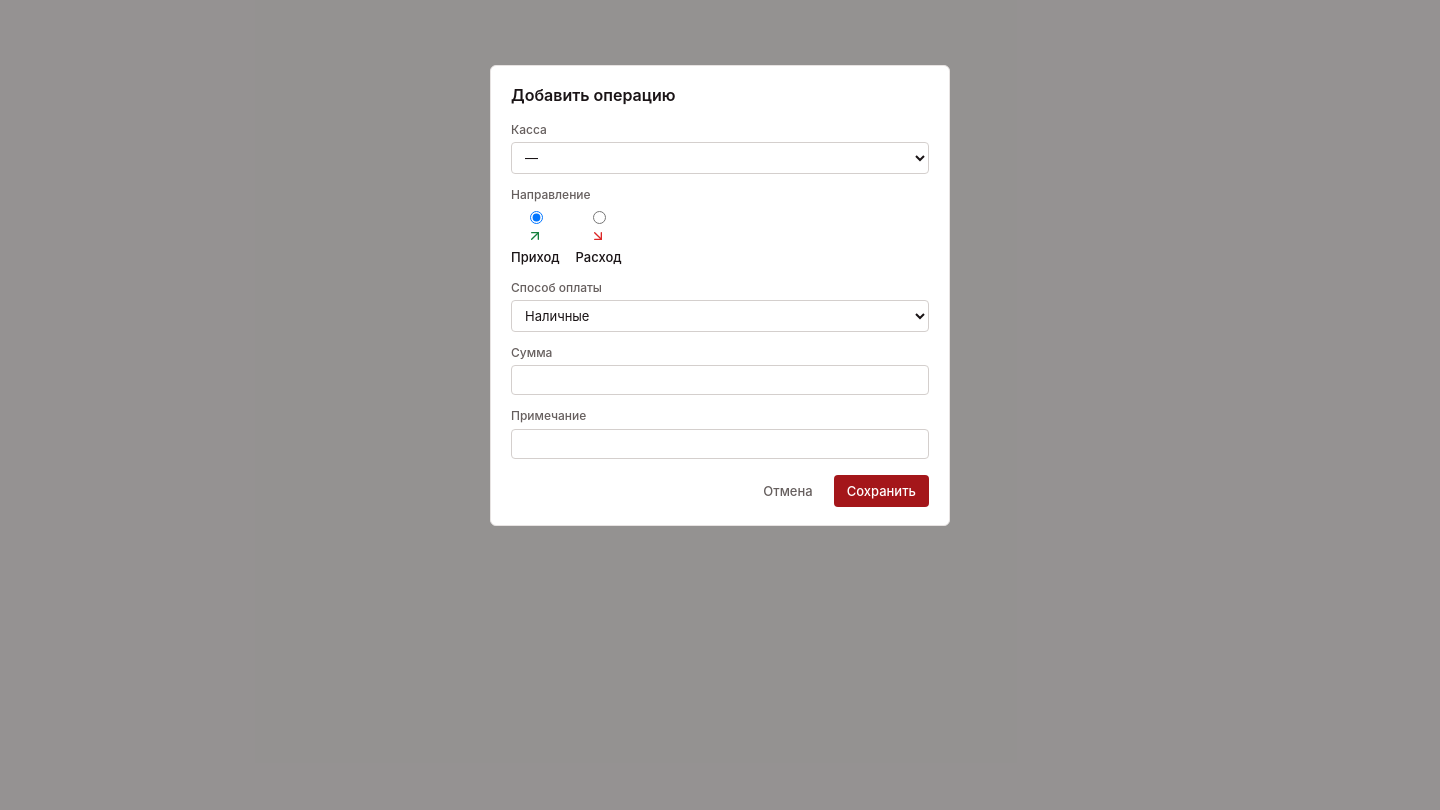
it: CashOperationModal › требует выбрать кассу
This screenshot has width=1440, height=810.
In the number field labelled "Сумма": (720, 380) [511, 365, 929, 395], type "100"
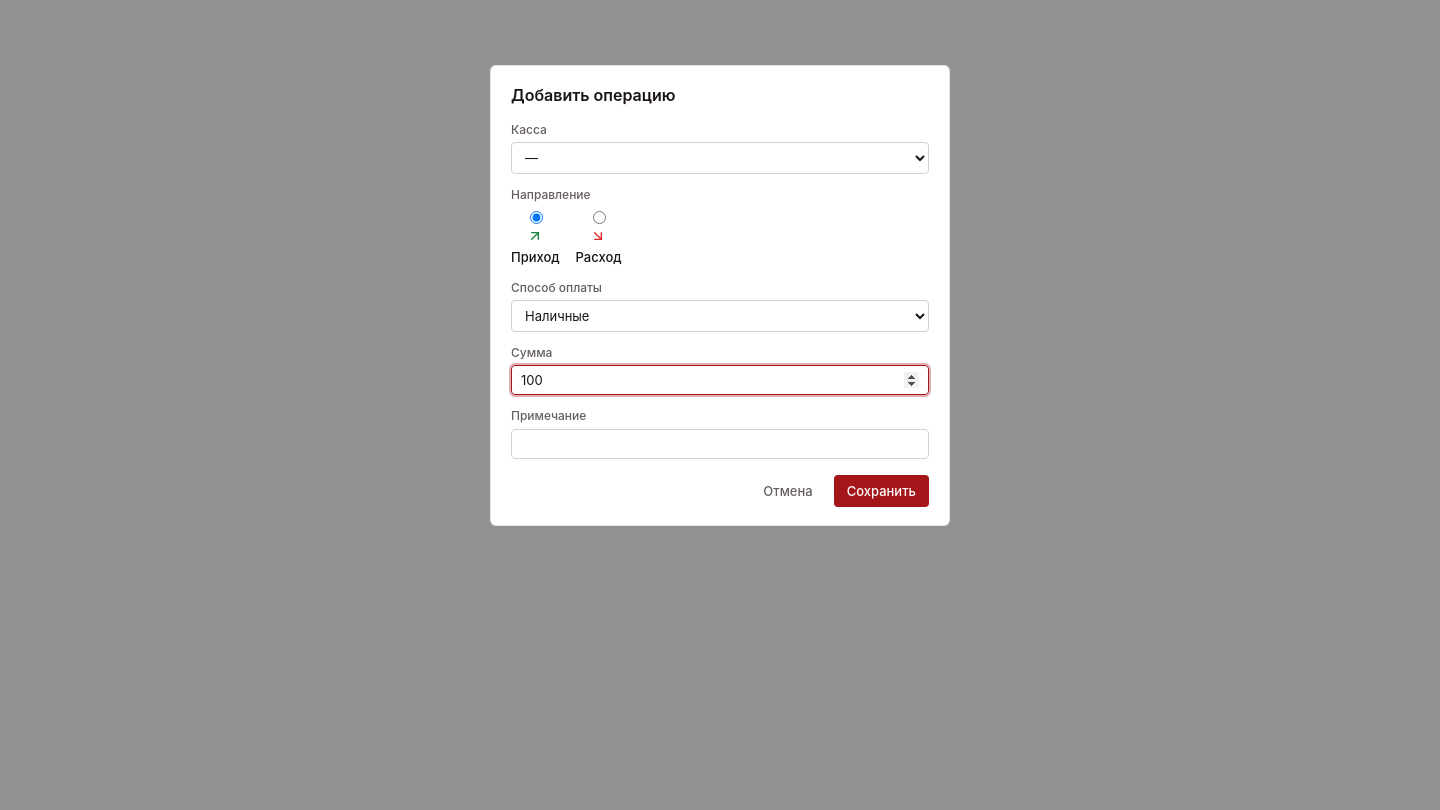
Click the button "Сохранить": (881, 491) [834, 475, 929, 507]
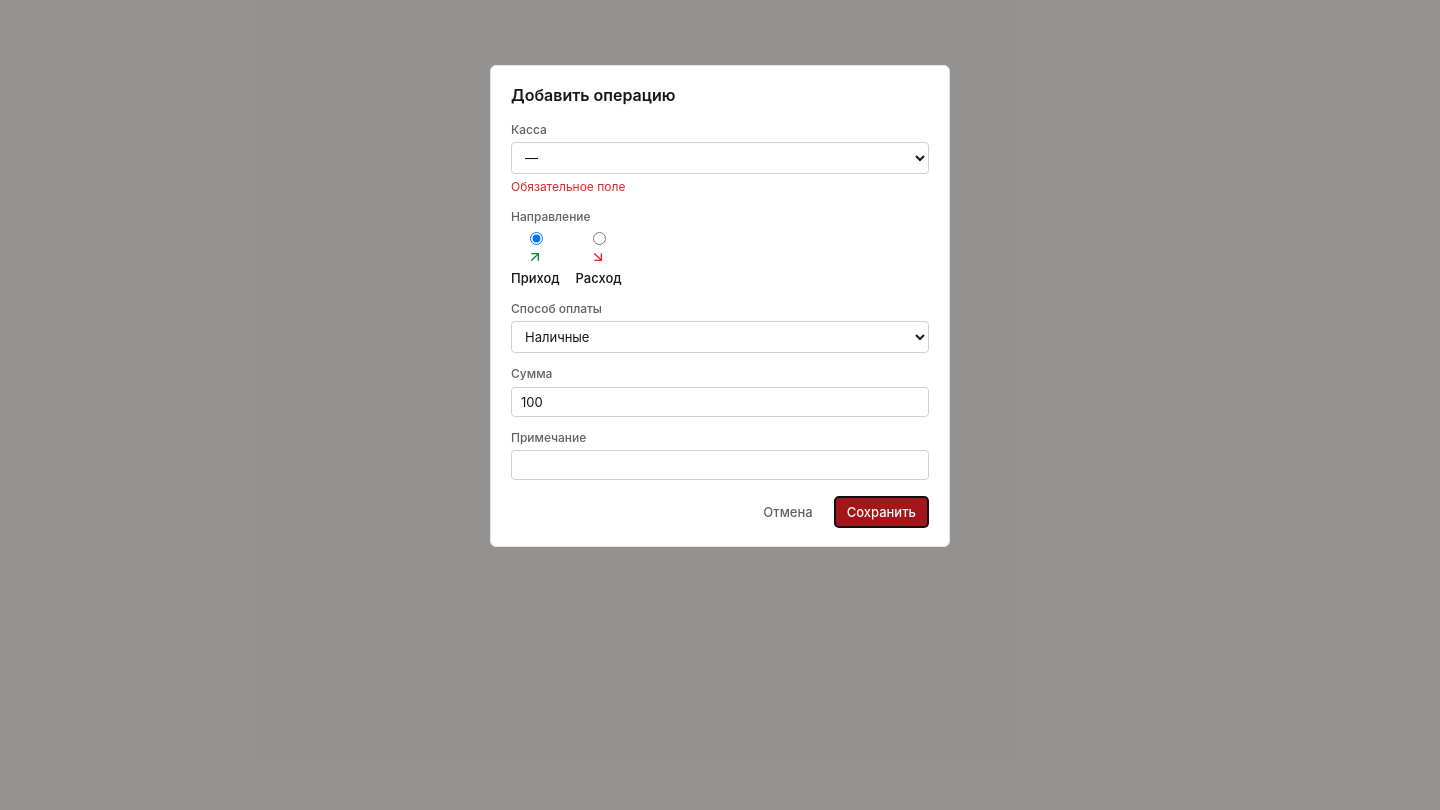
Result: the text "Обязательное поле" is shown at [511, 179, 625, 194]
